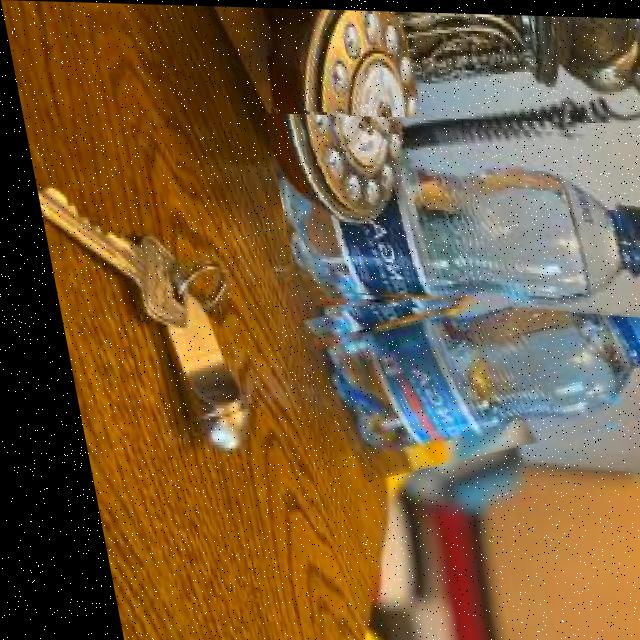litter: (280, 253, 640, 468), (259, 112, 640, 312), (585, 289, 640, 445), (583, 156, 640, 296)
